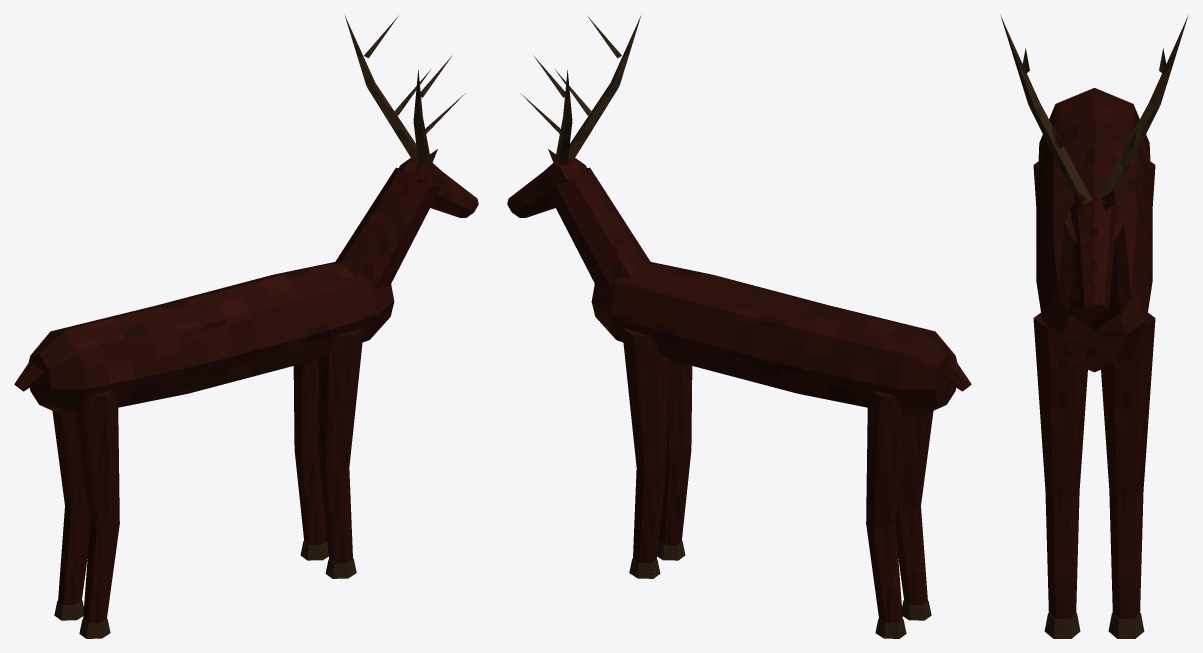
File: ciervo.glb
The picture shows the model from 3 angles, left to right: view 1: azimuth 30°, elevation 25°; view 2: azimuth 150°, elevation 25°; view 3: azimuth 270°, elevation 25°; orthographic projection. The views are drawn at different scales.
Parts seen in each view (by area): view 1: cuerpo, pata_delantera_der, pata_trasera_der, cuello, pata_trasera_izq, pata_delantera_izq, astas, cabeza; view 2: cuerpo, pata_delantera_izq, pata_trasera_izq, cuello, pata_trasera_der, pata_delantera_der, astas, cabeza; view 3: cuerpo, pata_delantera_izq, pata_delantera_der, astas, cabeza, cuello, pezuna_delantera_izq, pezuna_delantera_der, orejas.
Boxes of the visible parts, <box> form: cuerpo: <box>28,262,394,416</box>; pata_delantera_der: <box>318,328,363,563</box>; pata_trasera_der: <box>76,390,119,623</box>; cuello: <box>335,167,440,287</box>; pata_trasera_izq: <box>52,411,89,604</box>; pata_delantera_izq: <box>293,358,327,544</box>; astas: <box>345,16,465,165</box>; cabeza: <box>398,158,478,217</box>; cuerpo: <box>591,262,957,416</box>; pata_delantera_izq: <box>622,328,667,563</box>; pata_trasera_izq: <box>866,390,909,623</box>; cuello: <box>545,167,650,287</box>; pata_trasera_der: <box>896,411,933,604</box>; pata_delantera_der: <box>658,358,692,544</box>; astas: <box>520,16,640,165</box>; cabeza: <box>507,158,587,217</box>; cuerpo: <box>1036,88,1152,372</box>; pata_delantera_izq: <box>1101,313,1155,618</box>; pata_delantera_der: <box>1033,313,1087,618</box>; astas: <box>1000,15,1188,204</box>; cabeza: <box>1070,195,1118,312</box>; cuello: <box>1057,204,1131,331</box>; pezuna_delantera_izq: <box>1108,613,1144,638</box>; pezuna_delantera_der: <box>1044,613,1080,638</box>; orejas: <box>1073,190,1115,209</box>.
Bounding box in the file's own units: 1.8 × 1.9 × 0.5.
1 material, 1 textured.
